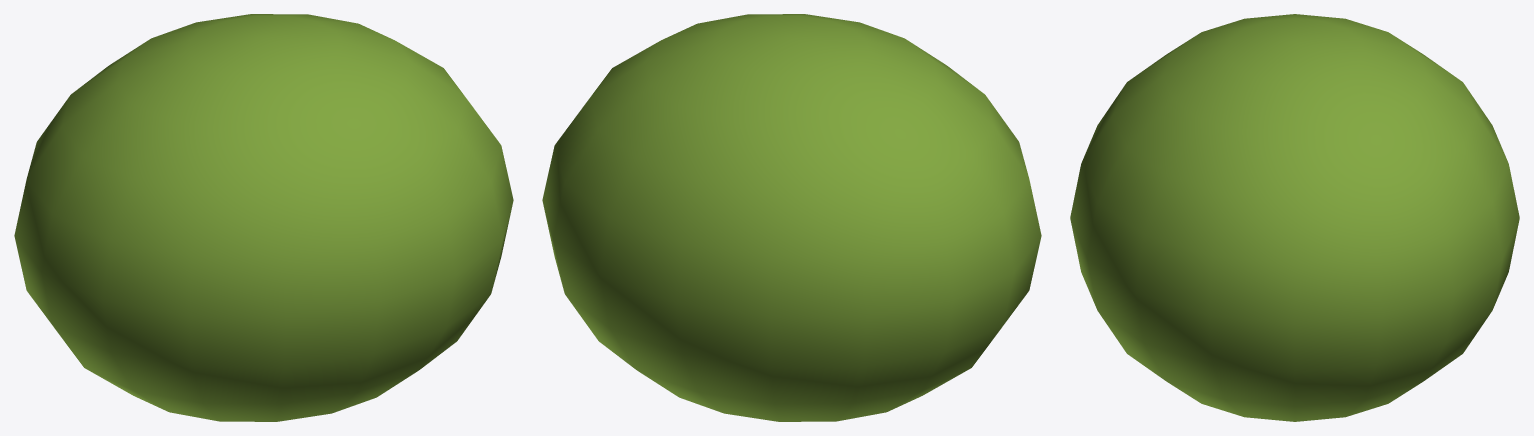
3 renders of one model, left to right at view 1: azimuth 30°, elevation 25°; view 2: azimuth 150°, elevation 25°; view 3: azimuth 270°, elevation 25°, orthographic. The views are drawn at different scales.
Parts seen in each view (by area): view 1: crownProxy; view 2: crownProxy; view 3: crownProxy.
Boxes of the visible parts, x1,y1,x2,y2 form: crownProxy: (14, 14, 513, 421); crownProxy: (542, 14, 1041, 421); crownProxy: (1070, 14, 1519, 421).
Size of the model in its own units: 2 by 1.55 by 1.8.
